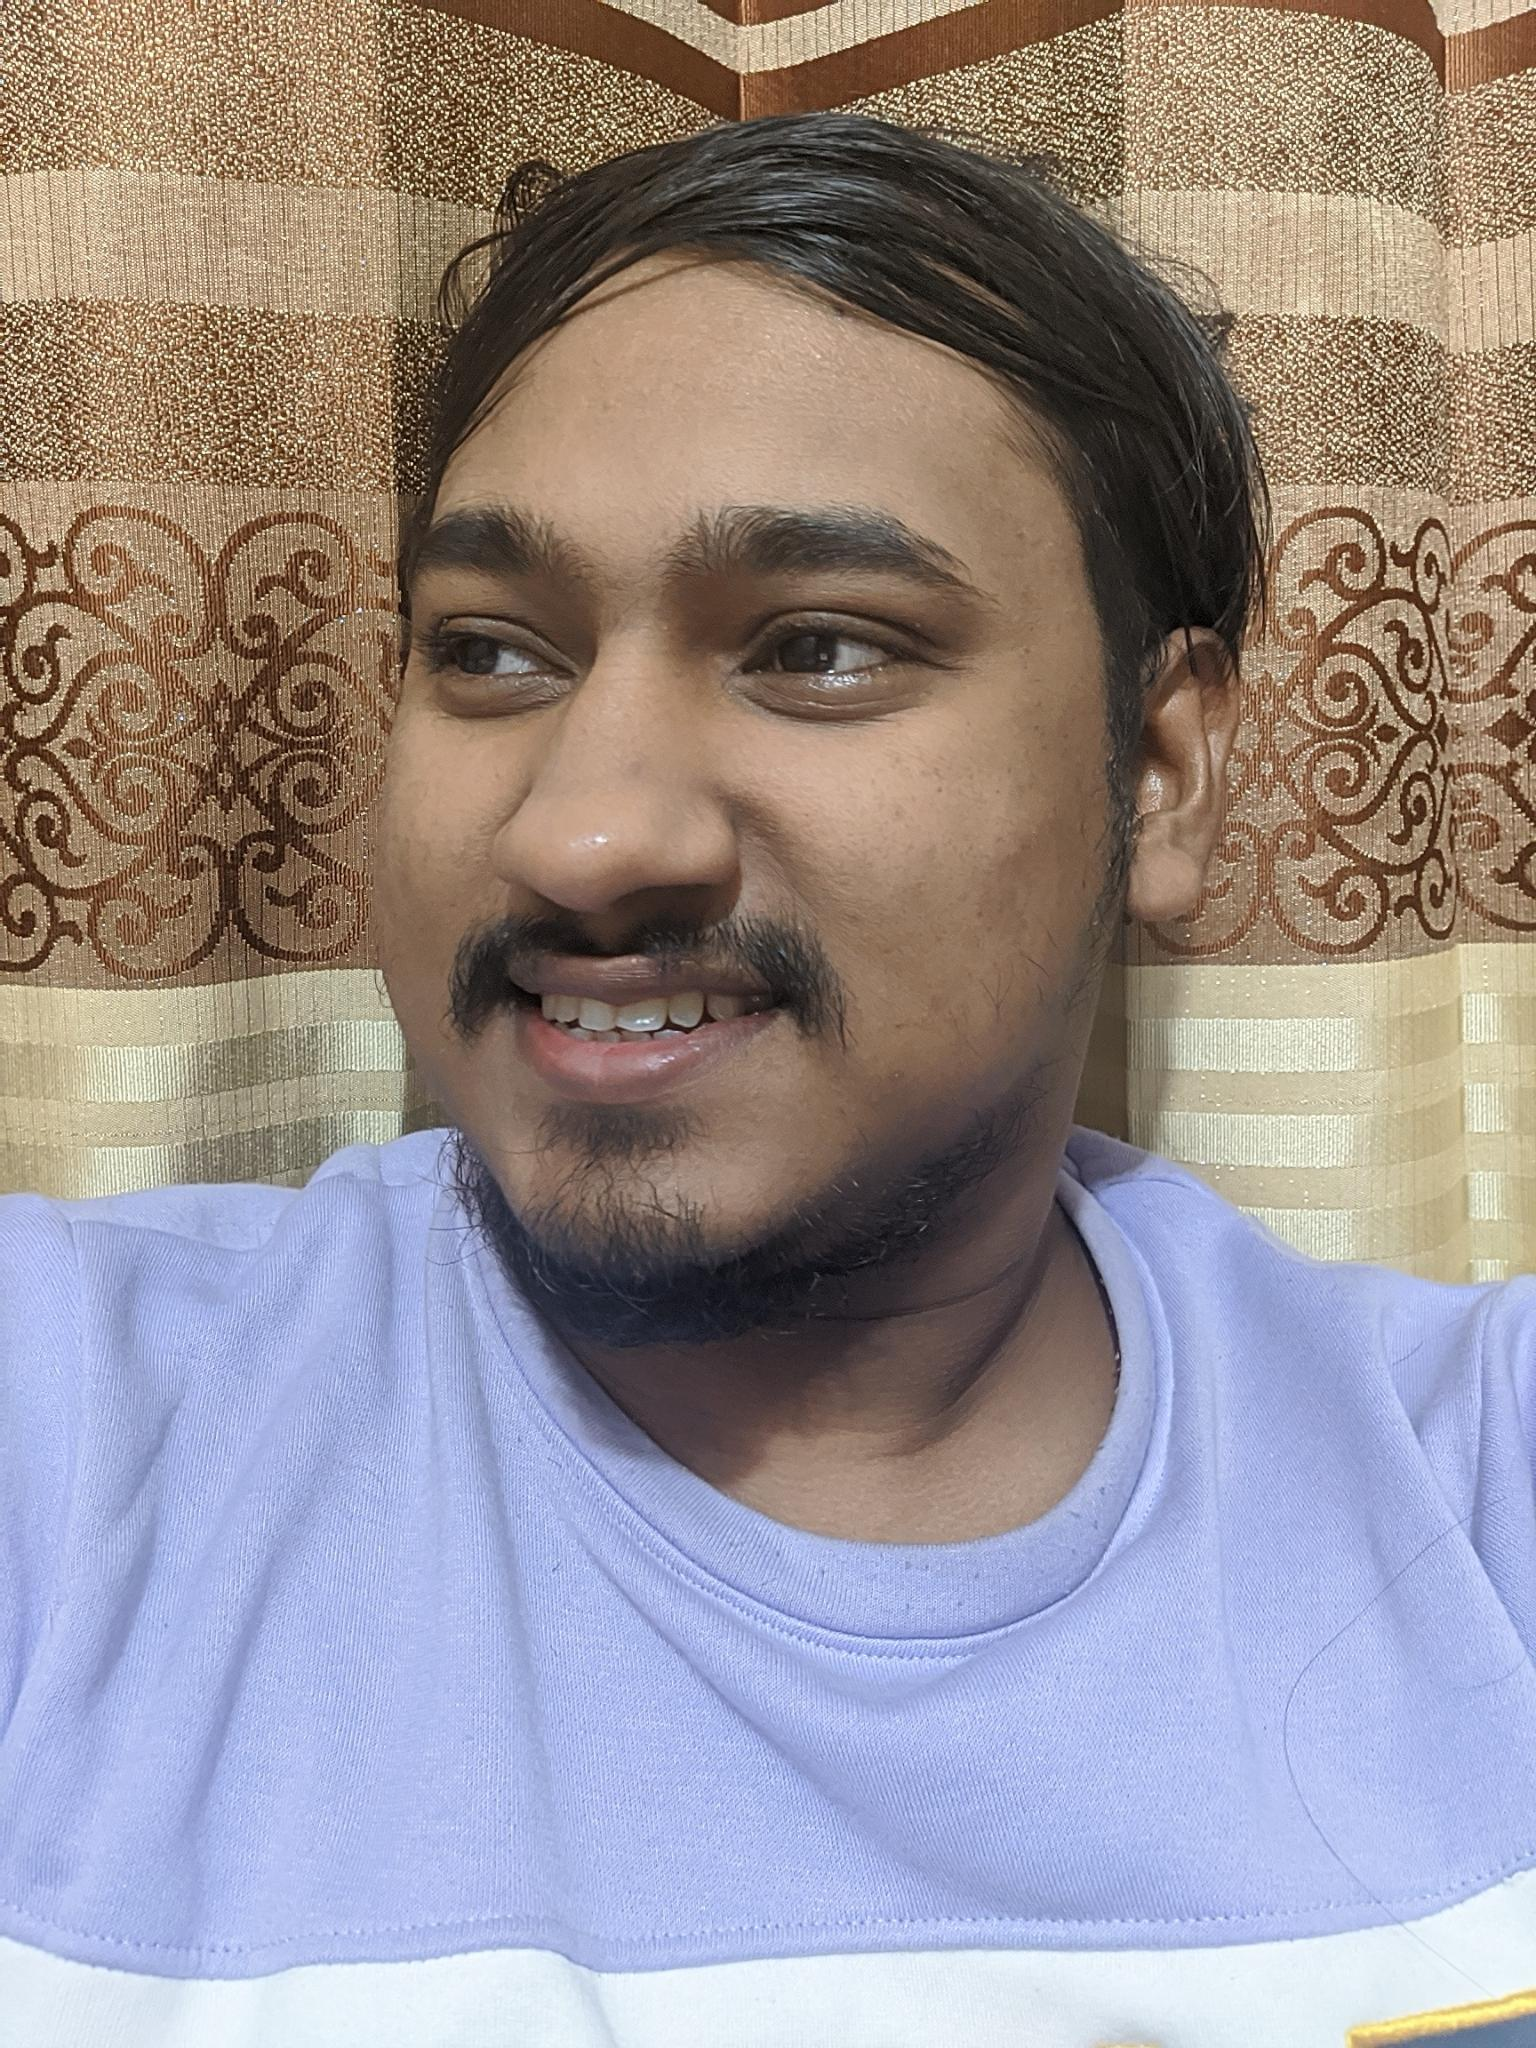Happy: (334, 402, 1065, 1319)
